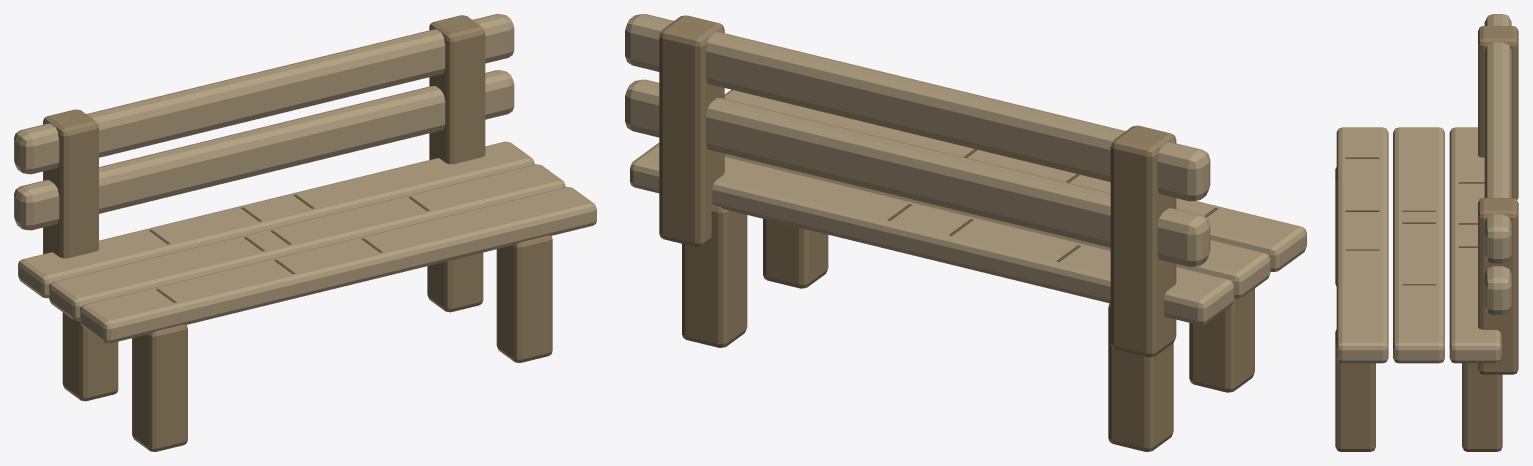
Rendered from Timber_Bench_Barren.glb.
The picture shows the model from 3 angles, left to right: view 1: azimuth 30°, elevation 25°; view 2: azimuth 150°, elevation 25°; view 3: azimuth 270°, elevation 25°; orthographic projection. The views are drawn at different scales.
Visible parts, largest first — view 1: Structure; view 2: Structure; view 3: Structure.
Part boxes in pixels (x1,y1,x2,y2): Structure: (14,14,596,451); Structure: (625,14,1306,451); Structure: (1335,14,1518,451).
Size of the model in its own units: 2.3 by 1.2 by 0.81.
